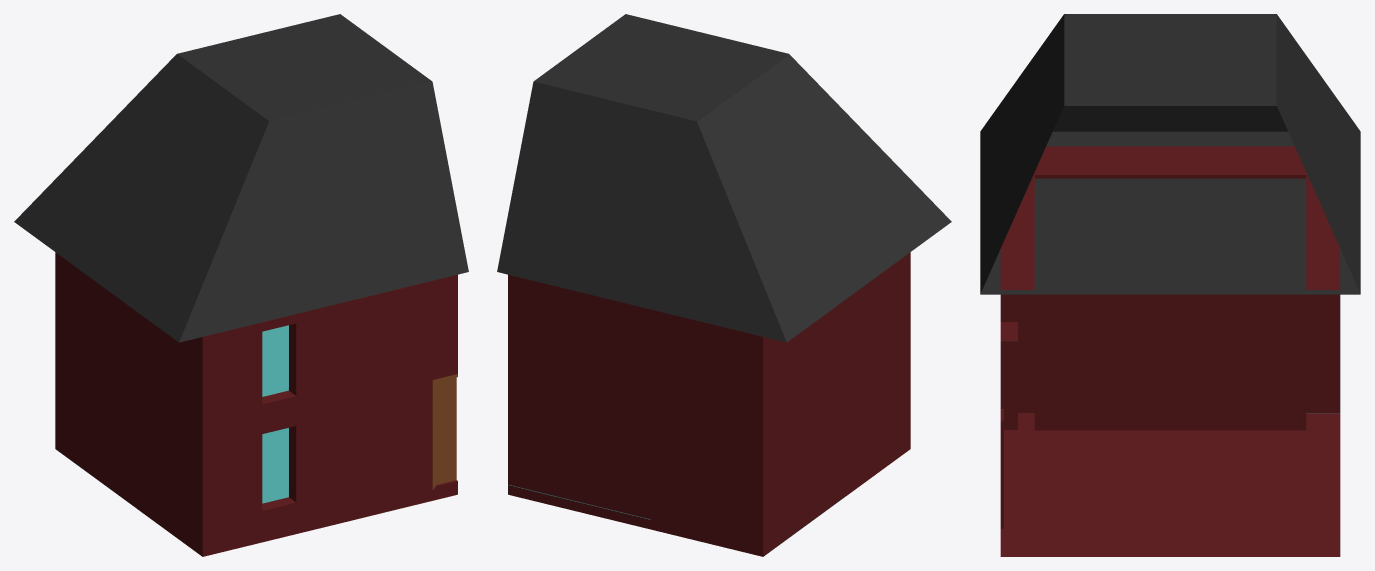
File: house_left.glb
The picture shows the model from 3 angles, left to right: view 1: azimuth 30°, elevation 25°; view 2: azimuth 150°, elevation 25°; view 3: azimuth 270°, elevation 25°; orthographic projection. The views are drawn at different scales.
Parts seen in each view (by area): view 1: house_left; view 2: house_left; view 3: house_left.
Part boxes in pixels (box(x1,y1,x2,y2)): house_left: box(14, 14, 468, 556); house_left: box(497, 14, 951, 556); house_left: box(980, 14, 1360, 556).
Size of what is drawn, in the model's own units: 9.08 by 11.75 by 8.96.
Materials: 1 (1 with a texture image).
